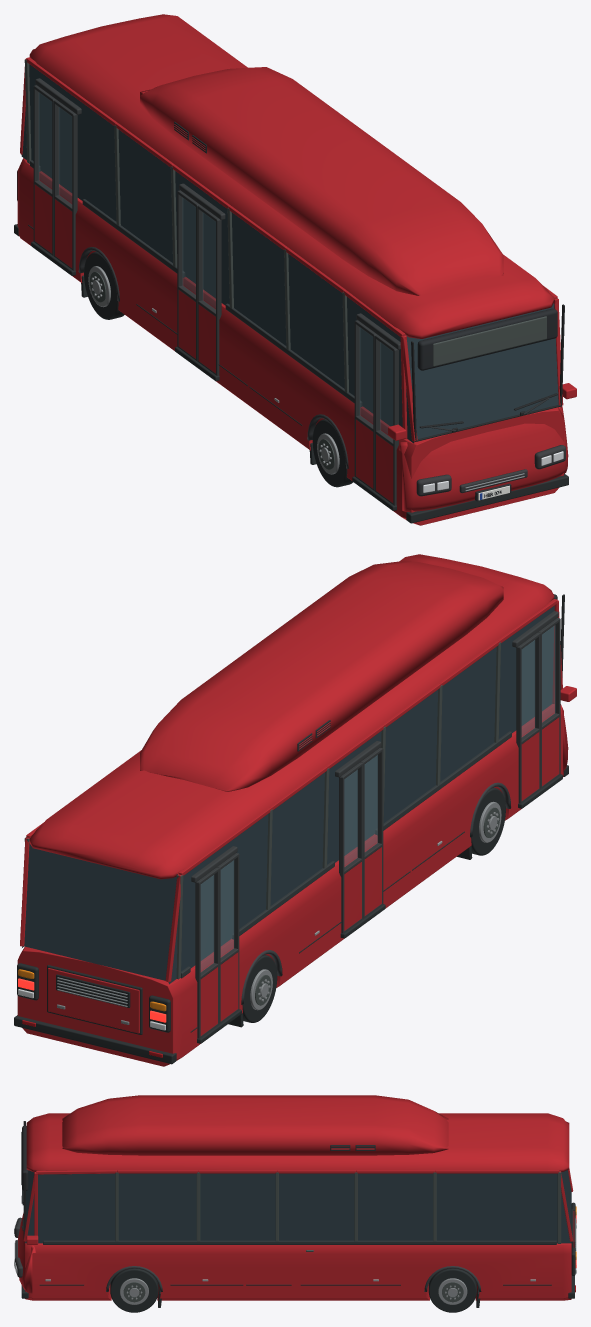
The model's file is city_bus.glb.
3 views of the same model, one above another, from view 1: azimuth 30°, elevation 25°; view 2: azimuth 150°, elevation 25°; view 3: azimuth 270°, elevation 25° (orthographic). The views are drawn at different scales.
Visible parts, largest first — view 1: Cabin, Raised roof equipment fairing, Crowned opaque roof shell, Painted bodyshell, Sculpted red front apron, Destination board, Front destination fascia, Bumper, Passenger door tinted glazing.004, Passenger door tinted glazing.001, Passenger door tinted glazing.005, Passenger door tinted glazing.003 (+21 smaller); view 2: Cabin, Raised roof equipment fairing, Crowned opaque roof shell, Painted bodyshell, Engine access hatch, Bumper.001, Passenger door tinted glazing.001, Passenger door tinted glazing.004, Passenger door tinted glazing.005, Passenger door tinted glazing, Passenger door tinted glazing.003, Passenger door tinted glazing.002 (+21 smaller); view 3: Cabin, Painted bodyshell, Raised roof equipment fairing, Crowned opaque roof shell, Window sill graphite trim, Däck.003, Däck.001, Sculpted red front apron, Roof rail.013, Window pillar.013, Window pillar.005, Roof rail.003 (+7 smaller).
Boxes of the visible parts, x1=… form: Cabin: x1=21, y1=64, x2=561, y2=443; Raised roof equipment fairing: x1=140, y1=67, x2=503, y2=295; Crowned opaque roof shell: x1=29, y1=14, x2=554, y2=338; Painted bodyshell: x1=17, y1=158, x2=563, y2=525; Sculpted red front apron: x1=399, y1=406, x2=568, y2=511; Destination board: x1=433, y1=316, x2=546, y2=366; Front destination fascia: x1=417, y1=308, x2=557, y2=370; Bumper: x1=406, y1=473, x2=568, y2=523; Passenger door tinted glazing.004: x1=58, y1=107, x2=72, y2=204; Passenger door tinted glazing.001: x1=359, y1=327, x2=373, y2=424; Passenger door tinted glazing.005: x1=38, y1=92, x2=52, y2=189; Passenger door tinted glazing.003: x1=182, y1=197, x2=195, y2=295; Cabin: x1=22, y1=606, x2=554, y2=984; Raised roof equipment fairing: x1=140, y1=561, x2=503, y2=791; Crowned opaque roof shell: x1=29, y1=554, x2=554, y2=879; Painted bodyshell: x1=17, y1=704, x2=563, y2=1066; Engine access hatch: x1=48, y1=968, x2=139, y2=1033; Bumper.001: x1=14, y1=1015, x2=176, y2=1064; Passenger door tinted glazing.001: x1=521, y1=640, x2=535, y2=737; Passenger door tinted glazing.004: x1=220, y1=860, x2=234, y2=957; Passenger door tinted glazing.005: x1=200, y1=875, x2=214, y2=972; Passenger door tinted glazing: x1=542, y1=625, x2=555, y2=722; Passenger door tinted glazing.003: x1=344, y1=769, x2=357, y2=867; Passenger door tinted glazing.002: x1=364, y1=755, x2=377, y2=852; Cabin: x1=25, y1=1170, x2=571, y2=1243; Painted bodyshell: x1=25, y1=1243, x2=571, y2=1300; Raised roof equipment fairing: x1=62, y1=1095, x2=448, y2=1155; Crowned opaque roof shell: x1=26, y1=1113, x2=569, y2=1172; Window sill graphite trim: x1=43, y1=1240, x2=556, y2=1244; Däck.003: x1=428, y1=1268, x2=476, y2=1312; Däck.001: x1=110, y1=1268, x2=158, y2=1312; Sculpted red front apron: x1=18, y1=1213, x2=36, y2=1293; Roof rail.013: x1=435, y1=1170, x2=559, y2=1173; Window pillar.013: x1=557, y1=1171, x2=561, y2=1243; Window pillar.005: x1=196, y1=1172, x2=200, y2=1241; Roof rail.003: x1=36, y1=1170, x2=116, y2=1174.
Size of the model in its own units: 2.78 by 3.68 by 10.72.
